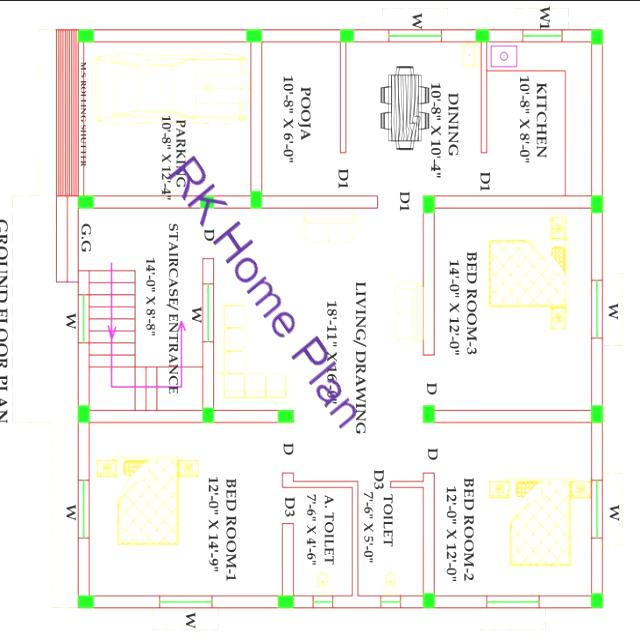Blueprint: (56, 14, 620, 622)
column: (586, 396, 608, 428), (74, 590, 98, 614), (74, 23, 98, 47), (421, 188, 439, 220), (332, 23, 358, 45), (588, 188, 608, 216), (240, 24, 265, 46), (586, 588, 606, 614), (245, 188, 266, 212), (274, 590, 298, 610), (420, 586, 438, 612), (420, 401, 438, 426), (586, 24, 606, 46), (276, 406, 298, 426), (198, 404, 218, 426), (76, 400, 92, 425), (76, 190, 96, 210), (470, 25, 492, 43), (200, 191, 218, 211)
wall: (433, 408, 594, 424), (434, 193, 594, 209), (92, 27, 248, 42), (590, 42, 604, 196), (250, 39, 264, 193), (422, 210, 436, 356), (261, 194, 380, 209), (92, 192, 202, 208), (422, 469, 436, 594), (89, 408, 204, 422), (77, 40, 87, 197), (280, 470, 354, 490), (259, 26, 343, 43), (92, 592, 162, 610), (280, 520, 296, 597), (338, 39, 348, 155), (210, 593, 280, 609), (213, 407, 280, 423), (351, 478, 360, 596), (590, 210, 605, 280), (590, 336, 605, 406), (67, 195, 79, 282), (479, 40, 488, 154), (538, 592, 592, 610), (202, 341, 216, 408), (76, 340, 90, 406), (590, 534, 605, 594), (332, 592, 382, 610), (590, 420, 604, 482), (77, 536, 91, 596), (76, 421, 90, 481), (432, 594, 488, 608), (212, 193, 254, 209), (440, 26, 478, 43), (351, 27, 391, 43), (560, 26, 594, 43), (487, 27, 525, 42), (400, 592, 424, 609), (201, 256, 215, 284), (77, 268, 91, 296)
